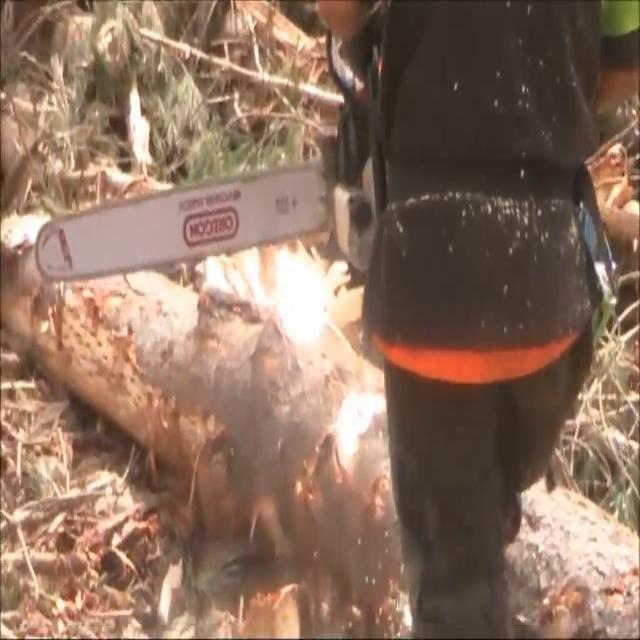Chainsaw: (18, 77, 397, 338)
